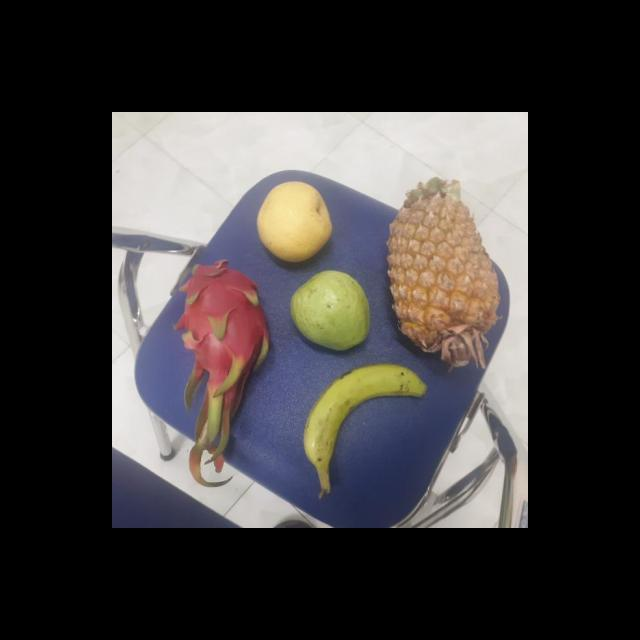banana: (297, 368, 426, 472)
guava: (287, 272, 371, 348)
pear: (254, 180, 334, 264)
pineapple: (389, 186, 500, 364)
pitaya: (175, 262, 269, 396)
